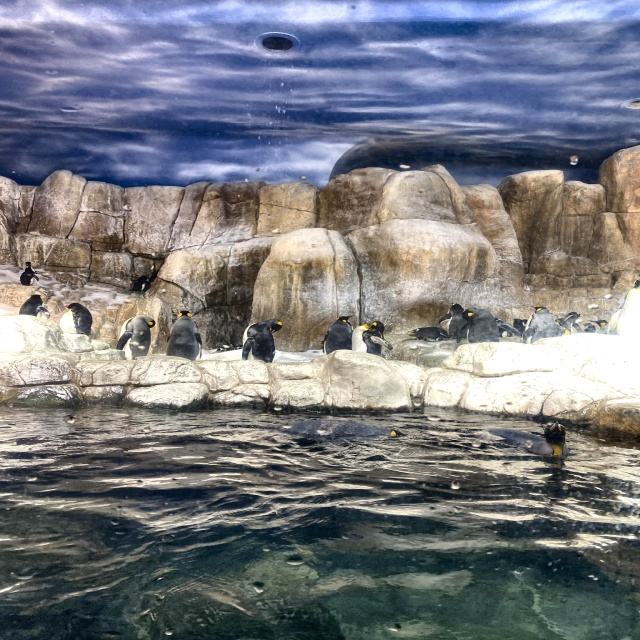penguin: (461, 422, 568, 460), (267, 419, 409, 446), (240, 318, 282, 363), (165, 311, 203, 359), (116, 316, 154, 361), (320, 316, 357, 355), (352, 320, 392, 355), (462, 309, 498, 344), (618, 280, 639, 336), (437, 303, 468, 338), (60, 302, 91, 337), (527, 305, 556, 341), (19, 294, 50, 320), (487, 317, 515, 340), (557, 310, 582, 335), (409, 327, 448, 340), (19, 261, 40, 284), (593, 318, 613, 335), (514, 317, 528, 335)
